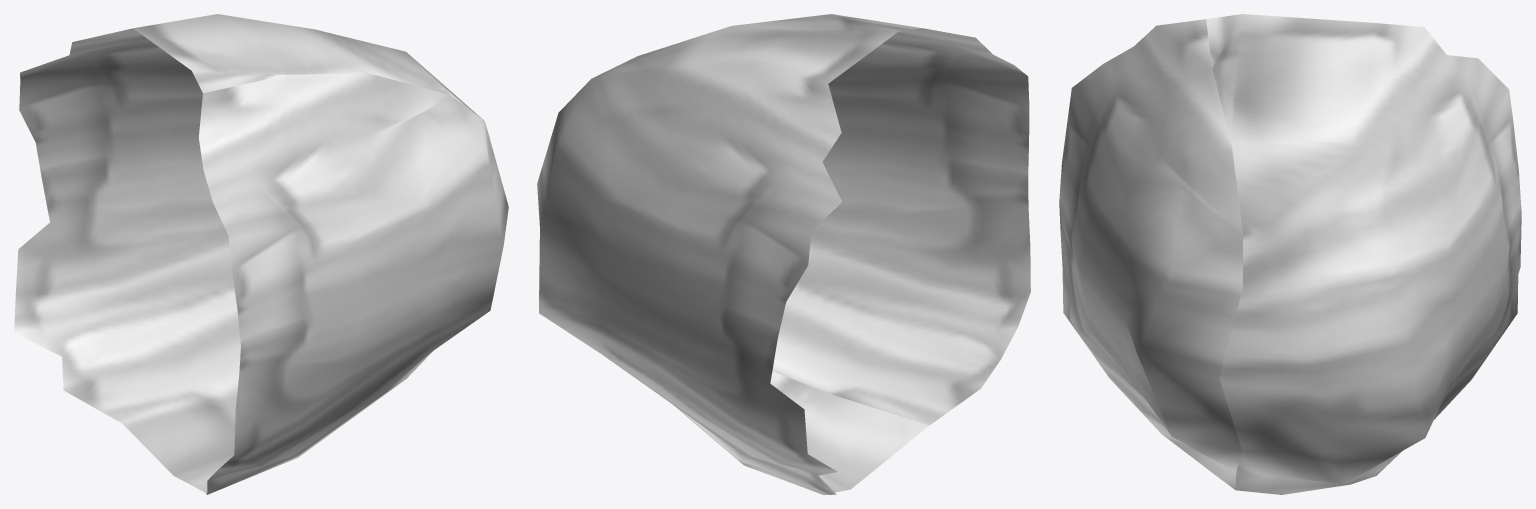
Rendered from WeddingVeilFront.fbx.
The picture shows the model from 3 angles, left to right: view 1: azimuth 30°, elevation 25°; view 2: azimuth 150°, elevation 25°; view 3: azimuth 270°, elevation 25°; orthographic projection. The views are drawn at different scales.
Visible parts, largest first — view 1: F_WeddingVeil; view 2: F_WeddingVeil; view 3: F_WeddingVeil.
Part boxes in pixels (x1,y1,x2,y2): F_WeddingVeil: [14, 14, 508, 494]; F_WeddingVeil: [537, 14, 1030, 494]; F_WeddingVeil: [1059, 14, 1521, 494].
Bounding box in the file's own units: 0.2439 × 0.2671 × 0.2502.
